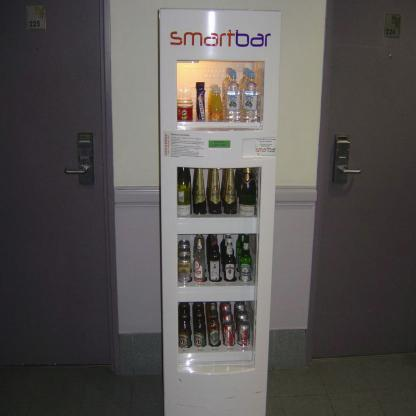door: (0, 0, 113, 368), (321, 0, 415, 354)
lever: (64, 165, 89, 178), (340, 166, 362, 176)
